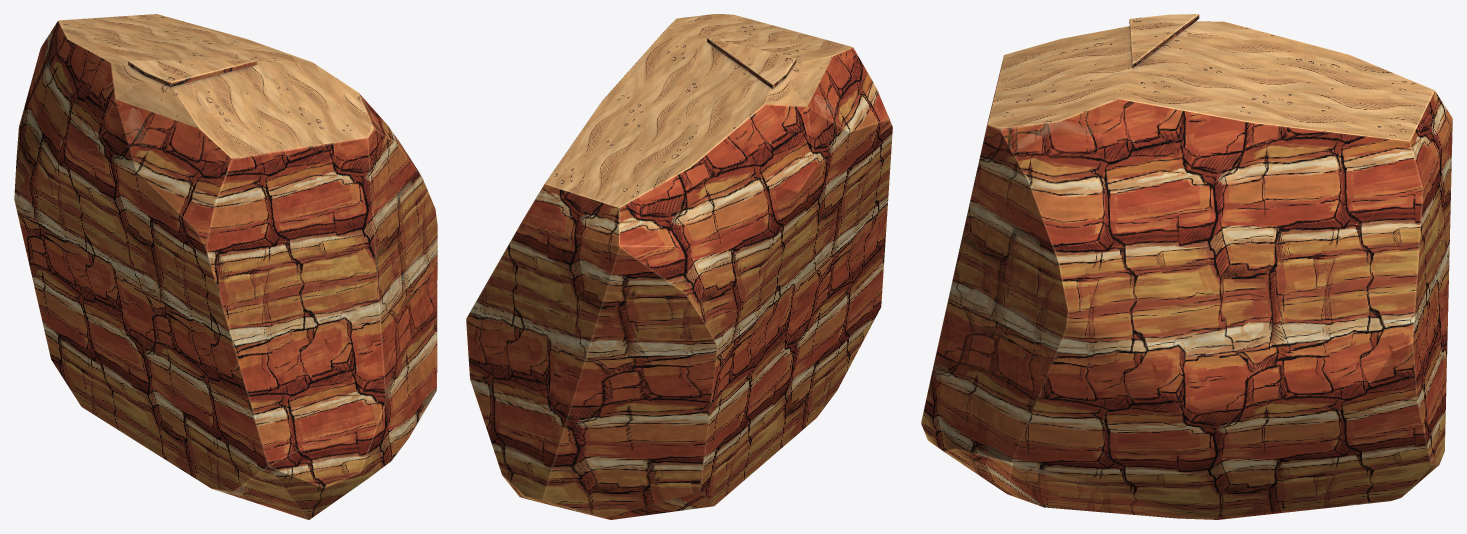
The model's file is v4_rocher_n1e.glb.
3 renders of one model, left to right at view 1: azimuth 30°, elevation 25°; view 2: azimuth 150°, elevation 25°; view 3: azimuth 270°, elevation 25°, orthographic. The views are drawn at different scales.
Visible parts, largest first — view 1: v4_rocher_n1e; view 2: v4_rocher_n1e; view 3: v4_rocher_n1e.
Part boxes in pixels (x1,y1,x2,y2): v4_rocher_n1e: [14, 14, 437, 519]; v4_rocher_n1e: [466, 14, 892, 519]; v4_rocher_n1e: [921, 14, 1452, 519].
Size of the model in its own units: 3 by 3.8 by 4.5.
1 material, 1 textured.
